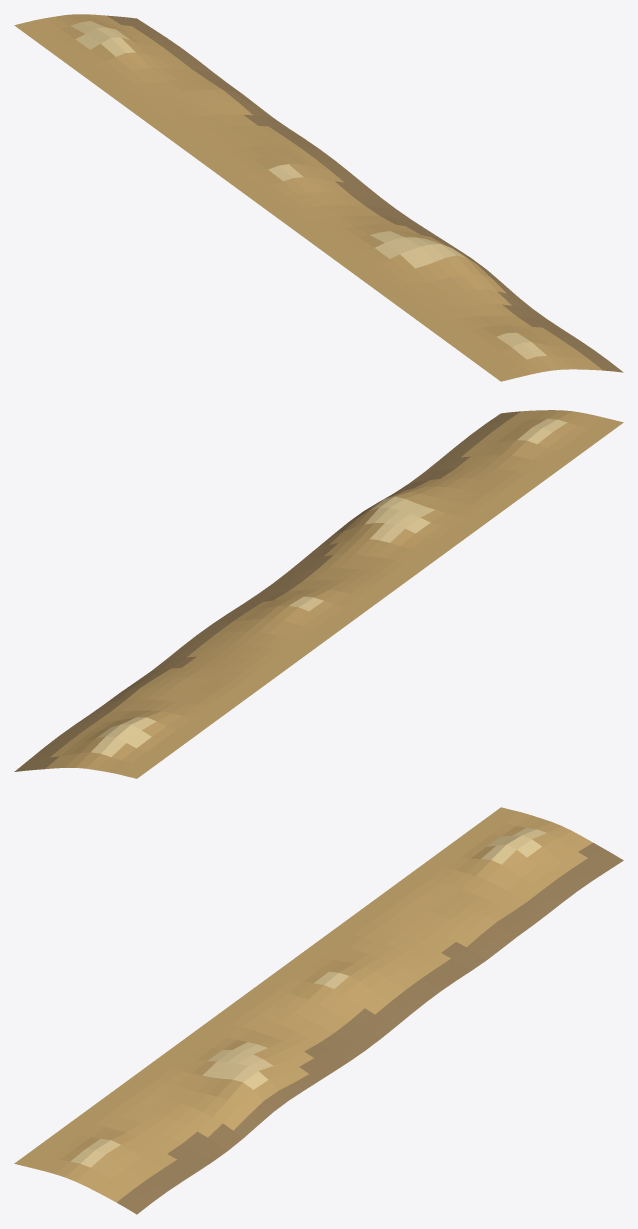
Rendered from terrain_beach_shelf.glb.
3 views of the same model, one above another, from view 1: azimuth 30°, elevation 25°; view 2: azimuth 150°, elevation 25°; view 3: azimuth 330°, elevation 25° (orthographic).
Parts seen in each view (by area): view 1: terrain_beach_shelf; view 2: terrain_beach_shelf; view 3: terrain_beach_shelf.
Part boxes in pixels (<box>): terrain_beach_shelf: <box>14,14,623,381</box>; terrain_beach_shelf: <box>14,410,623,778</box>; terrain_beach_shelf: <box>14,807,623,1214</box>.
Size of the model in its own units: 14 by 3.56 by 96.
